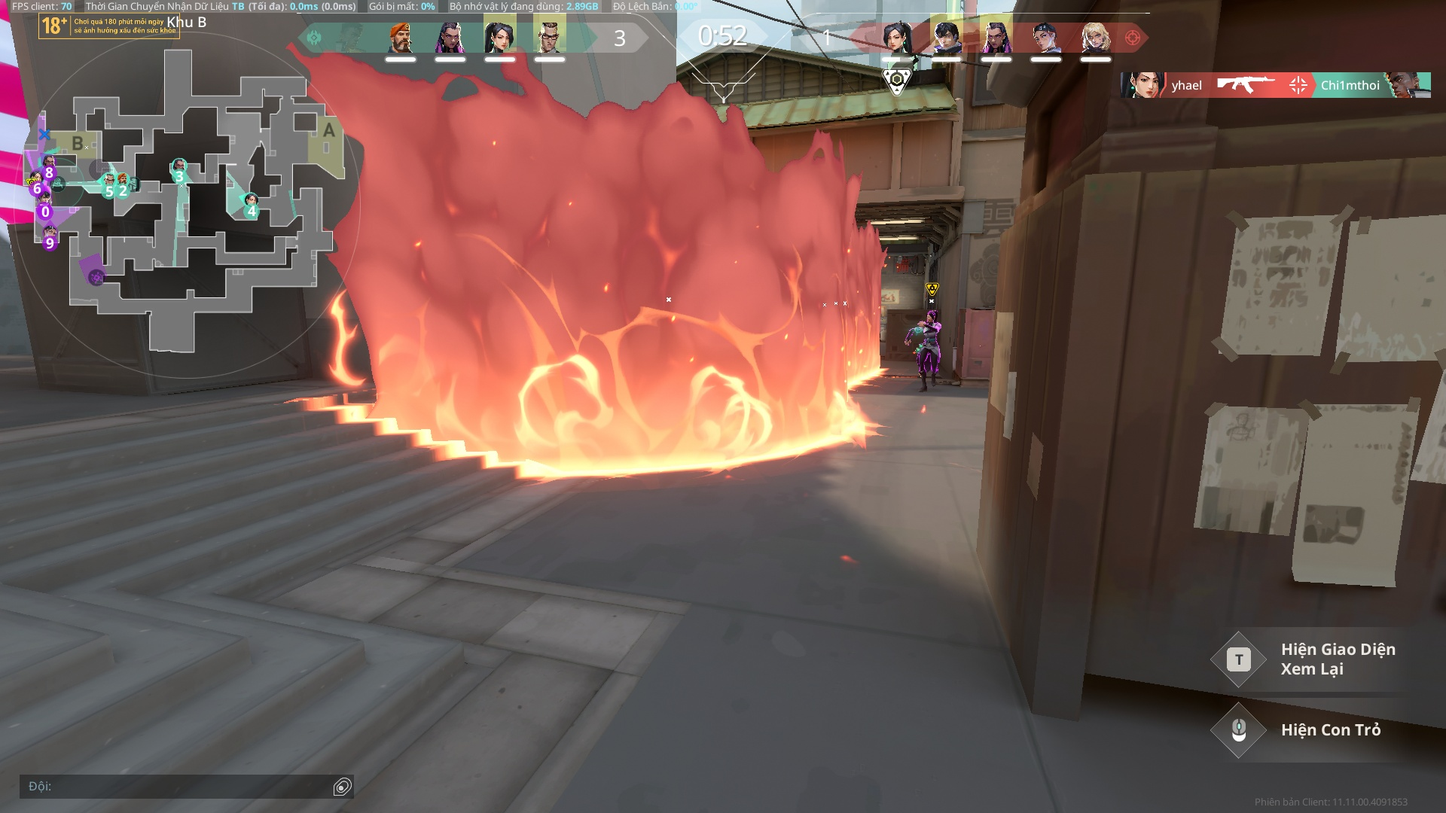body: (920, 319, 939, 346)
head: (926, 310, 935, 322)
